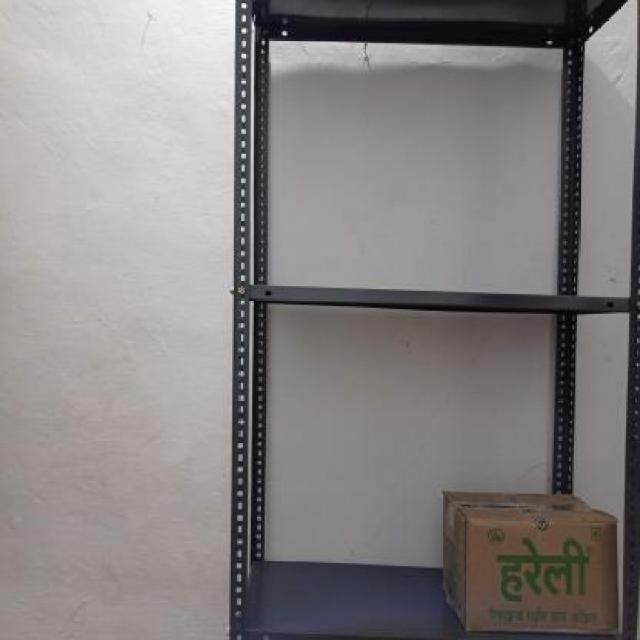box: (464, 514, 620, 636)
